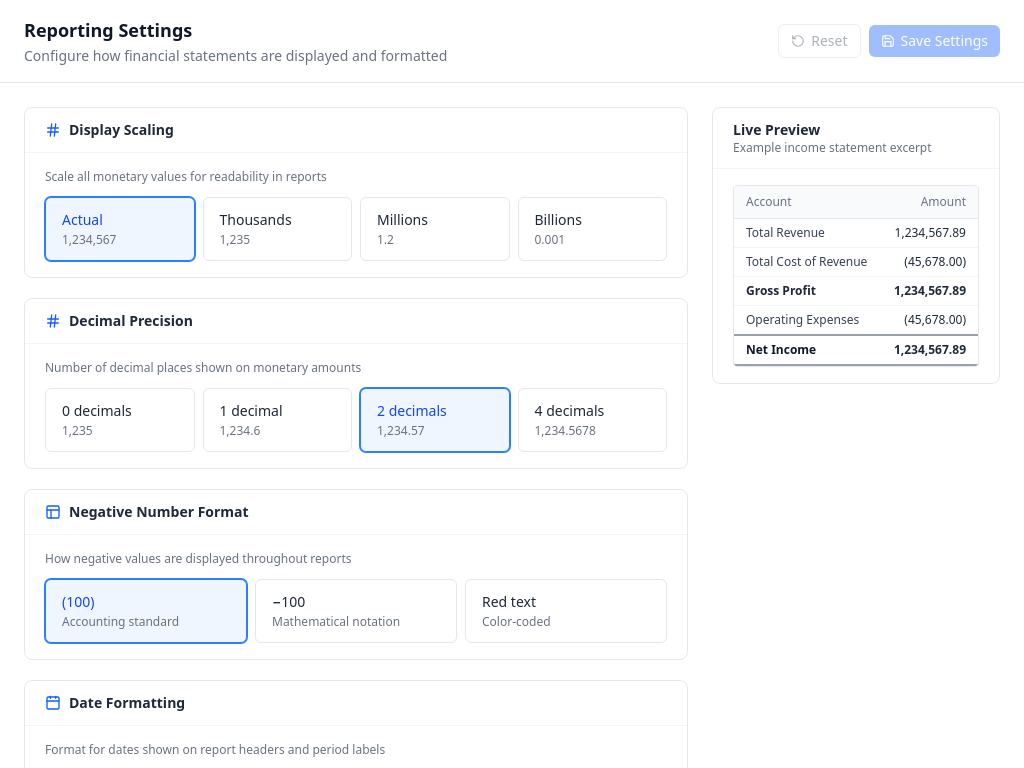
Scenario: ReportingSettingsPage › reset button reverts draft and clears dirty flag
This screenshot has width=1024, height=768.
What coordinates should you click on to do the following:
click the text "Thousands"
I would click on:
 (256, 220)
Its box is x1=220 y1=210 x2=292 y2=230.
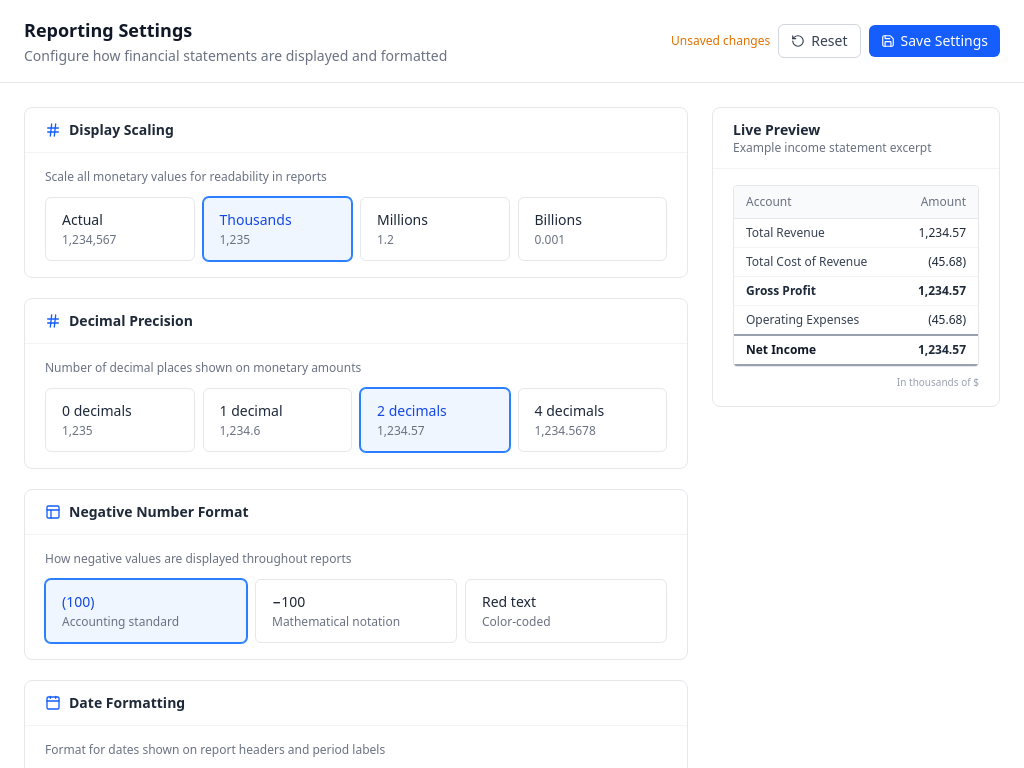
Expected: the text "Unsaved changes" is shown, x1=671 y1=33 x2=770 y2=49
What coordinates should you click on to do the following:
click the button "Reset"
I would click on:
 (819, 41)
Its box is x1=778 y1=24 x2=861 y2=58.
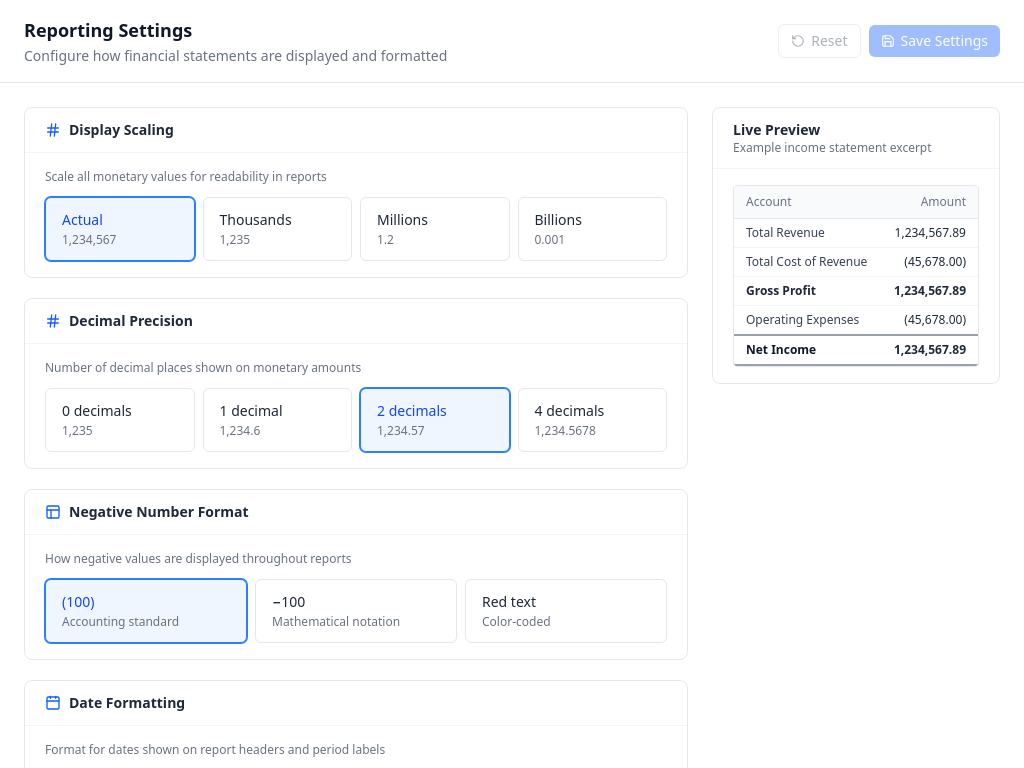
Expected: the text "Unsaved" is gone
